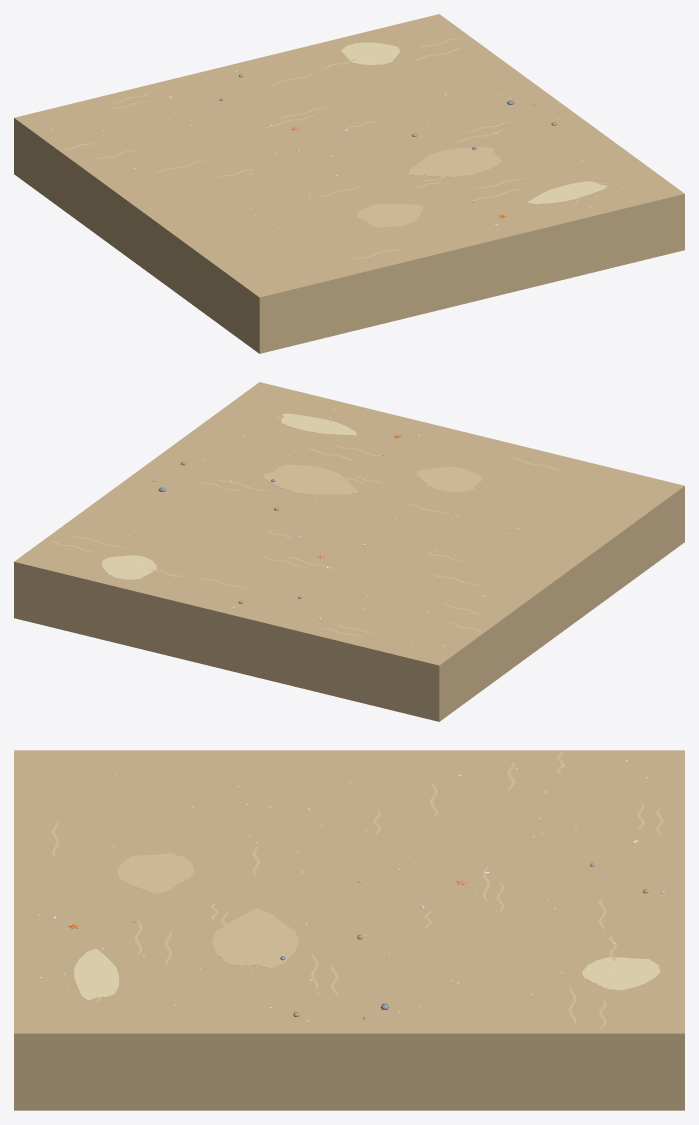
File: piso_areia.glb
The picture shows the model from 3 angles, top to bottom: view 1: azimuth 30°, elevation 25°; view 2: azimuth 150°, elevation 25°; view 3: azimuth 270°, elevation 25°; orthographic projection. The views are drawn at different scales.
Visible parts, largest first — view 1: piso_areia; view 2: piso_areia; view 3: piso_areia.
Boxes of the visible parts, box(x1,y1,x2,y2) form: piso_areia: box(14, 14, 684, 353); piso_areia: box(14, 382, 684, 721); piso_areia: box(14, 750, 684, 1110).
Bounding box in the file's own units: 15 × 1.98 × 15.
Materials: 1 (1 with a texture image).
